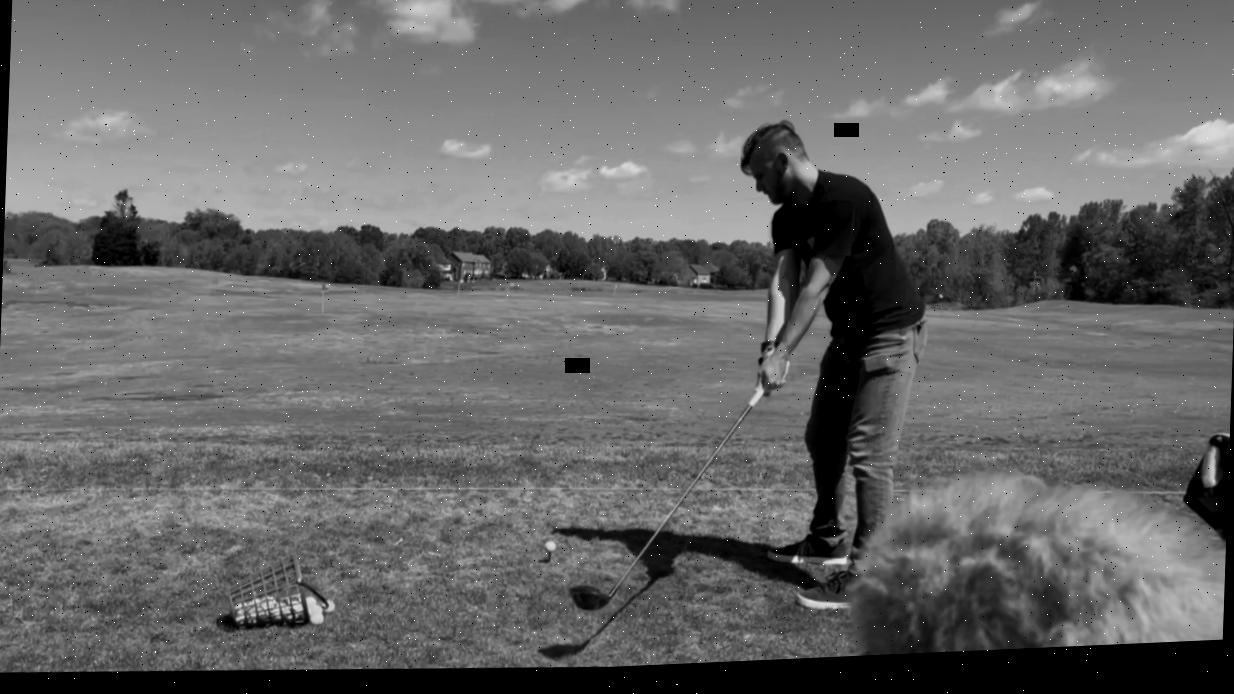ClubHead: (565, 585, 620, 624)
GolfBall: (542, 544, 560, 562)
